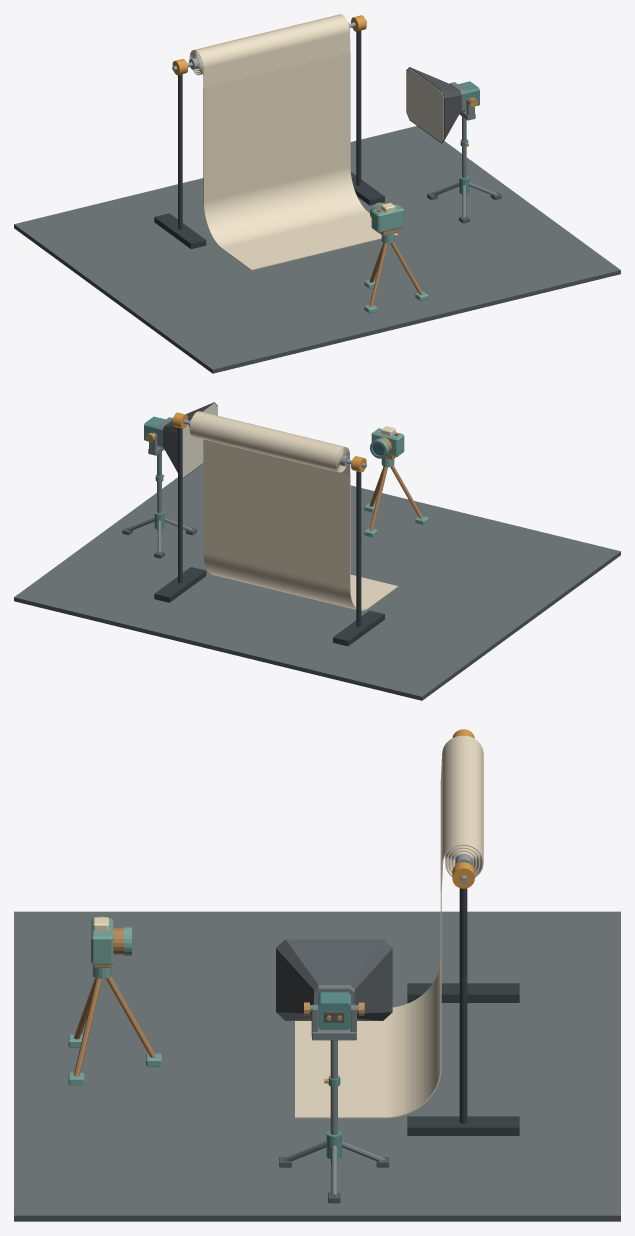
The picture shows the model from 3 angles, top to bottom: view 1: azimuth 30°, elevation 25°; view 2: azimuth 150°, elevation 25°; view 3: azimuth 270°, elevation 25°; orthographic projection. The views are drawn at different scales.
Visible parts, largest first — view 1: SCENE_ONLY__StudioFloor, backdrop__ContinuousBackdropSheet, camera__photography-tripod-camera-01, softbox__Softbox_FrontDiffuser, softbox__Softbox_DeepHood, backdrop__Post_Right, backdrop__Foot_Left, backdrop__Post_Left, backdrop__Foot_Right; view 2: SCENE_ONLY__StudioFloor, backdrop__ContinuousBackdropSheet, camera__photography-tripod-camera-01, softbox__Softbox_FrontDiffuser, backdrop__Post_Left, backdrop__Foot_Right, backdrop__Foot_Left, backdrop__Post_Right, softbox__Softbox_DeepHood; view 3: SCENE_ONLY__StudioFloor, backdrop__ContinuousBackdropSheet, softbox__Softbox_DeepHood, camera__photography-tripod-camera-01, backdrop__Foot_Right, backdrop__Post_Right, backdrop__Foot_Left, softbox__LampHead_Housing, softbox__Stand_Mast.
Part boxes in pixels (x1,y1,x2,y2): SCENE_ONLY__StudioFloor: (14, 126, 620, 373); backdrop__ContinuousBackdropSheet: (189, 14, 398, 270); camera__photography-tripod-camera-01: (364, 202, 428, 313); softbox__Softbox_FrontDiffuser: (406, 68, 443, 142); softbox__Softbox_DeepHood: (406, 67, 461, 143); backdrop__Post_Right: (356, 30, 361, 185); backdrop__Foot_Left: (154, 213, 206, 249); backdrop__Post_Left: (178, 74, 182, 229); backdrop__Foot_Right: (351, 172, 384, 205); SCENE_ONLY__StudioFloor: (14, 464, 620, 700); backdrop__ContinuousBackdropSheet: (189, 411, 398, 610); camera__photography-tripod-camera-01: (364, 426, 428, 537); softbox__Softbox_FrontDiffuser: (182, 403, 217, 477); backdrop__Post_Left: (356, 471, 361, 626); backdrop__Foot_Right: (154, 567, 206, 602); backdrop__Foot_Left: (333, 610, 384, 646); backdrop__Post_Right: (178, 427, 182, 583); softbox__Softbox_DeepHood: (162, 402, 217, 478); SCENE_ONLY__StudioFloor: (14, 911, 620, 1221); backdrop__ContinuousBackdropSheet: (295, 735, 483, 1118); softbox__Softbox_DeepHood: (276, 939, 392, 1020); camera__photography-tripod-camera-01: (68, 916, 161, 1085); backdrop__Foot_Right: (407, 1116, 519, 1135); backdrop__Post_Right: (459, 888, 467, 1123); backdrop__Foot_Left: (407, 983, 519, 1002); softbox__LampHead_Housing: (318, 992, 350, 1029); softbox__Stand_Mast: (330, 1040, 337, 1162).
Size of the model in its own units: 6.4 by 2.74 by 5.4.
